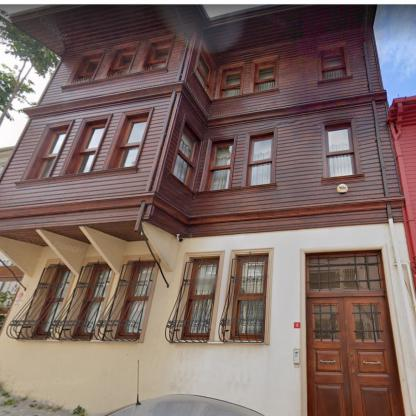door: (310, 297, 400, 415)
window: (309, 254, 382, 291), (234, 258, 265, 334), (123, 265, 155, 334), (80, 269, 112, 335), (38, 270, 72, 332), (188, 262, 216, 335), (70, 125, 106, 174), (114, 117, 147, 168), (33, 130, 67, 178), (174, 126, 198, 186), (207, 141, 234, 191), (328, 127, 354, 176), (249, 137, 273, 186), (195, 49, 213, 92), (322, 51, 346, 79), (145, 44, 170, 69), (75, 58, 100, 82), (256, 64, 275, 92), (112, 51, 135, 74), (222, 70, 241, 97)
